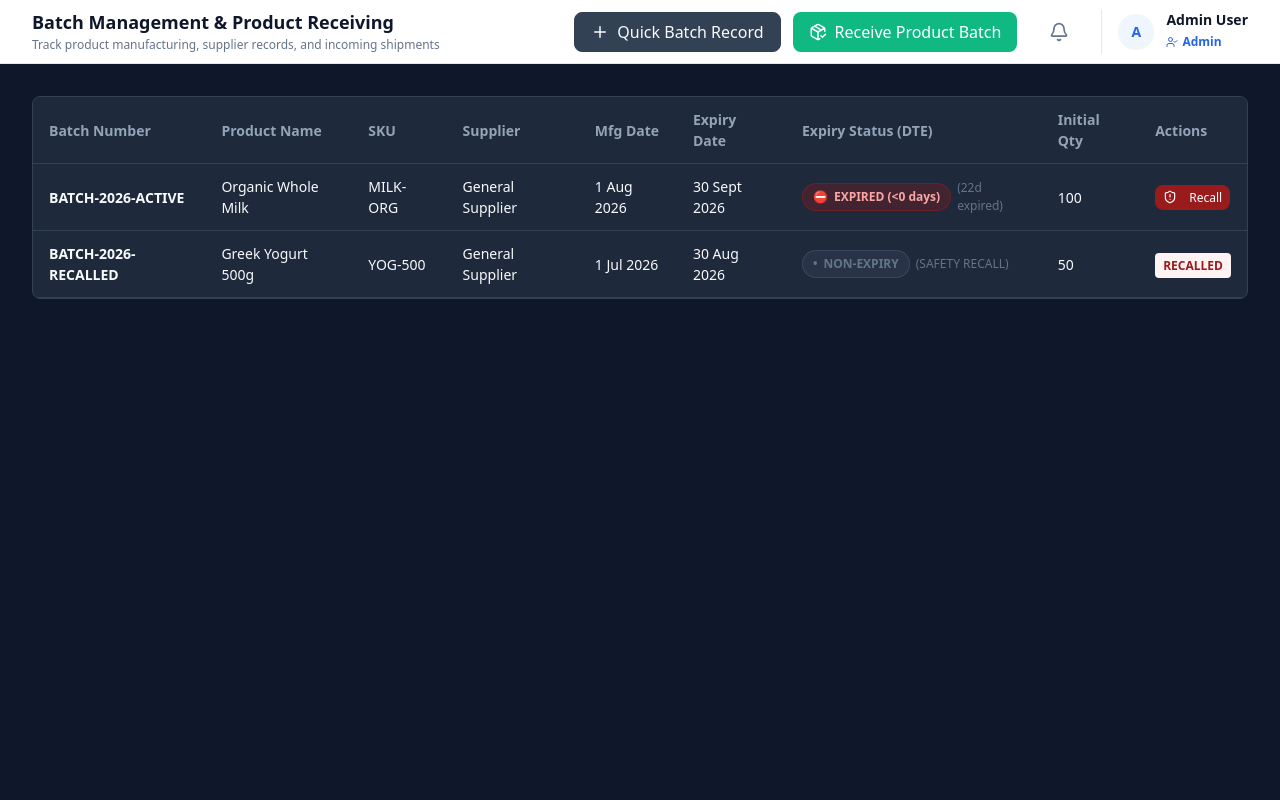
Scenario: Batch Recall Workspace Vitest Suite › allows ADMIN to open BatchRecallModal and view impact preview
Expected: the text "BATCH-2026-ACTIVE" is shown, [49,188,184,206]
Click the button "Recall" at (1193, 197), box [1155,184,1230,210]
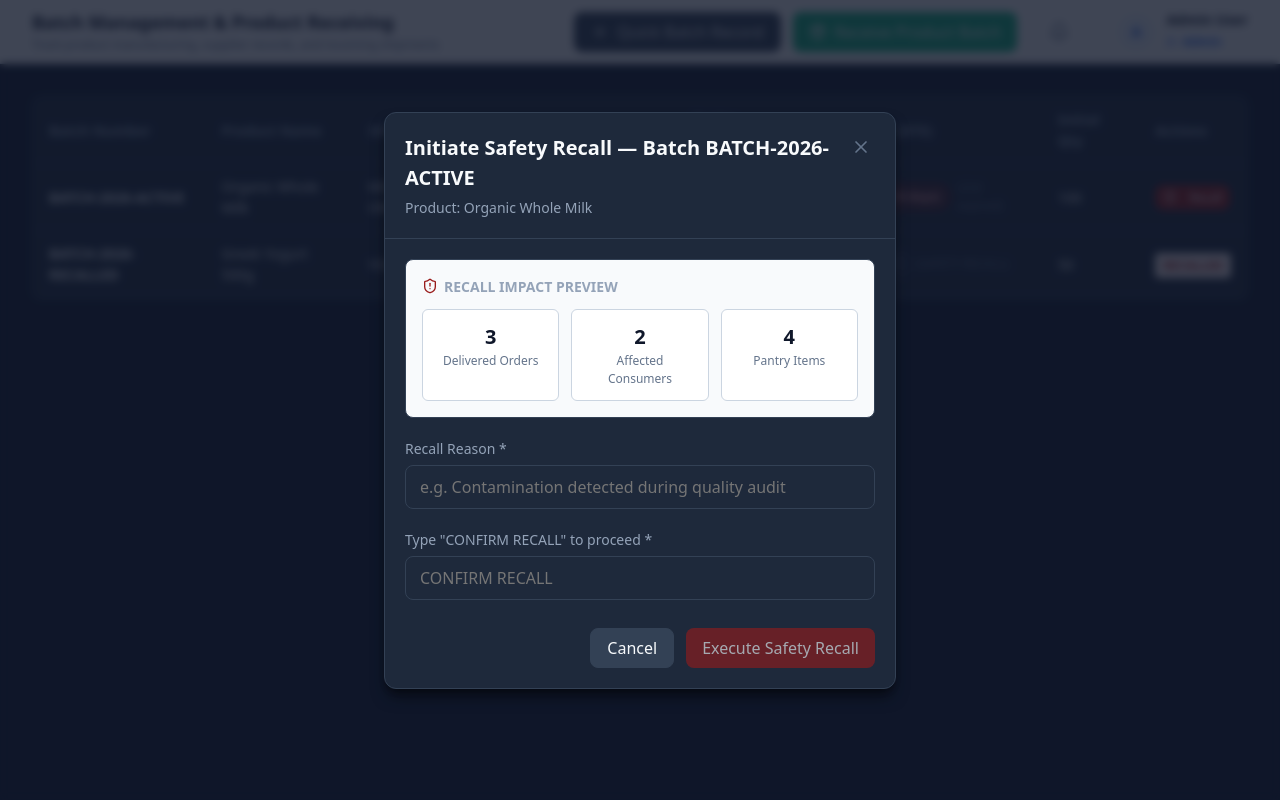
Result: the heading "Initiate Safety Recall — Batch BATCH-2026-ACTIVE" is shown at [405,132,847,192]
Result: the text "Delivered Orders" is shown at [435,352,546,370]
